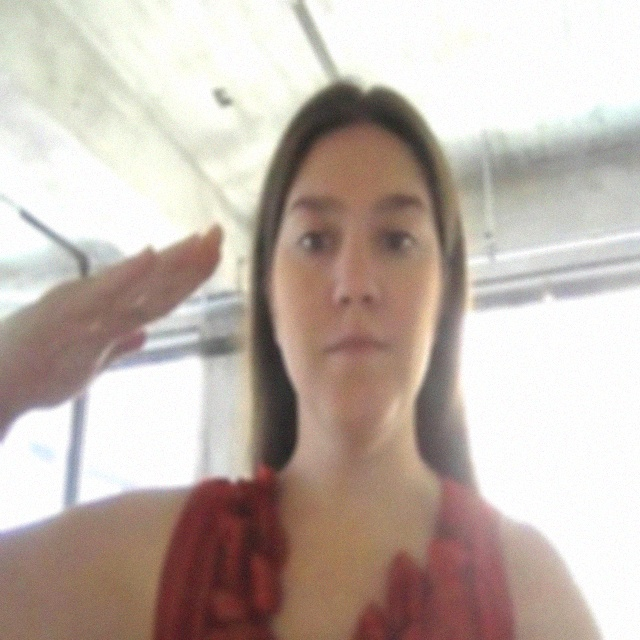Paper: (34, 233, 222, 403)
